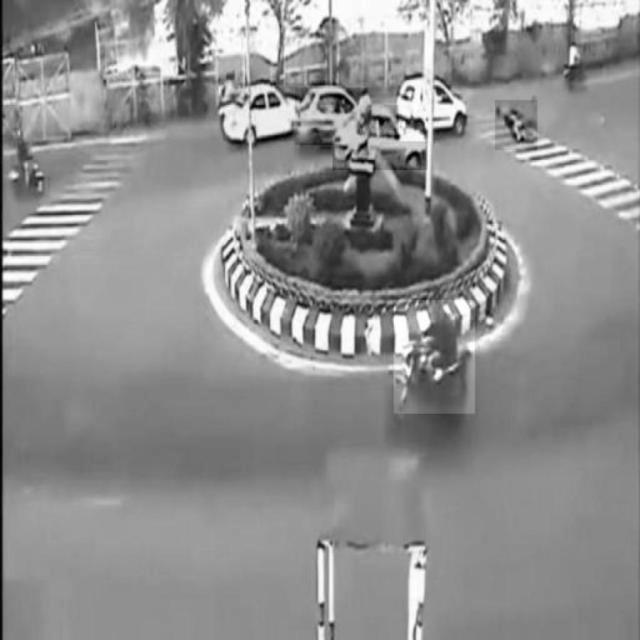vehicle: (394, 301, 475, 414), (332, 105, 426, 169), (223, 82, 305, 140), (399, 77, 466, 141), (296, 87, 368, 145), (496, 100, 538, 150)
